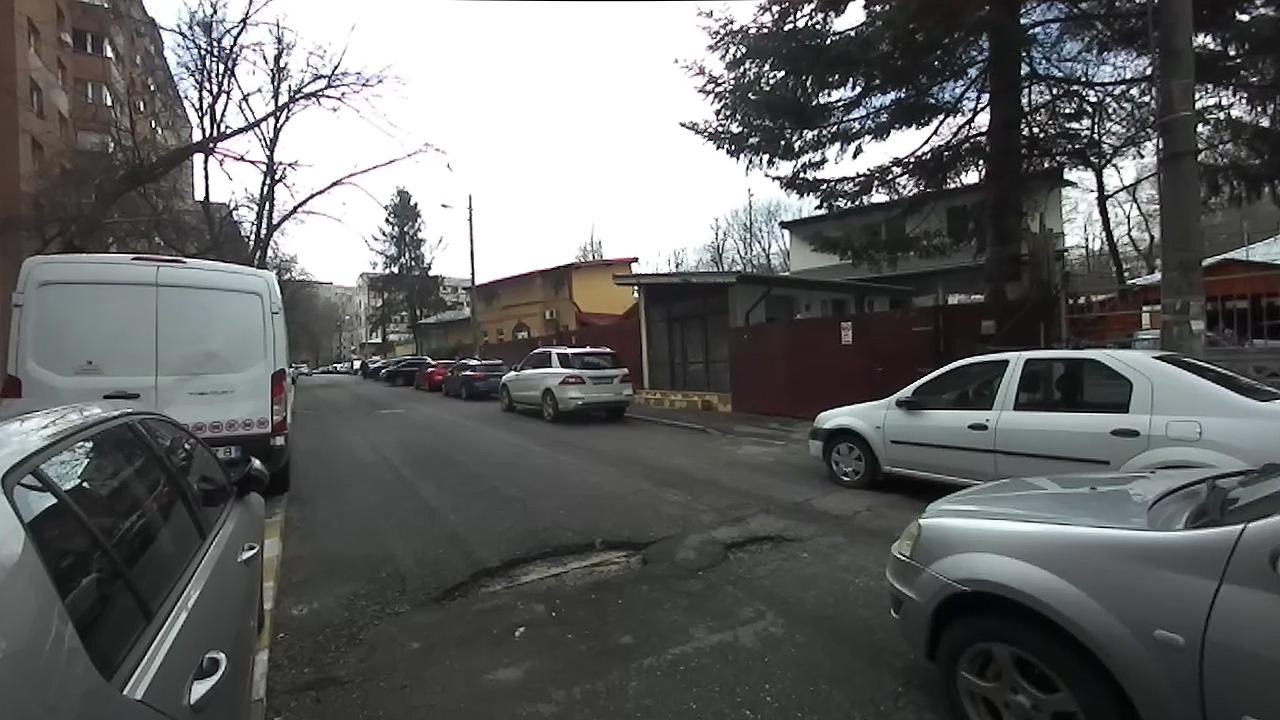pothole: (423, 537, 655, 617), (693, 529, 801, 577)
